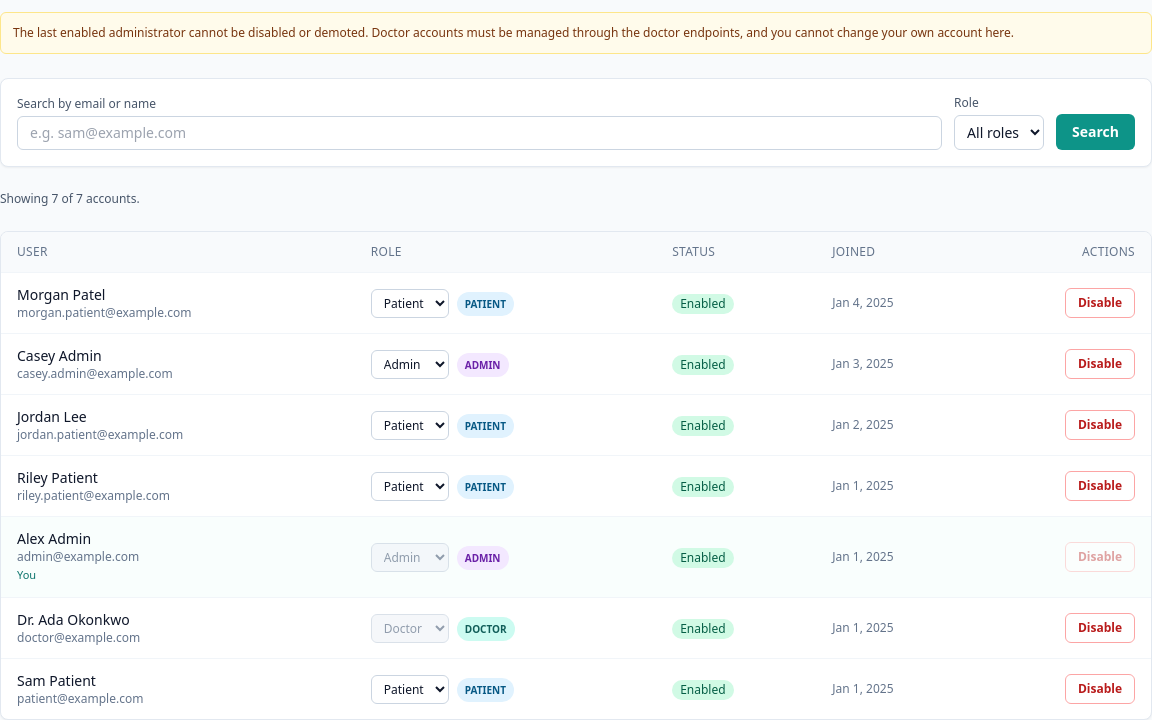
AdminUsersPage › explains when the last administrator cannot be disabled (409)
(page scrolled)
Click the button with aria-label "disable patient@example.com": (1100, 689) [1065,674,1135,704]
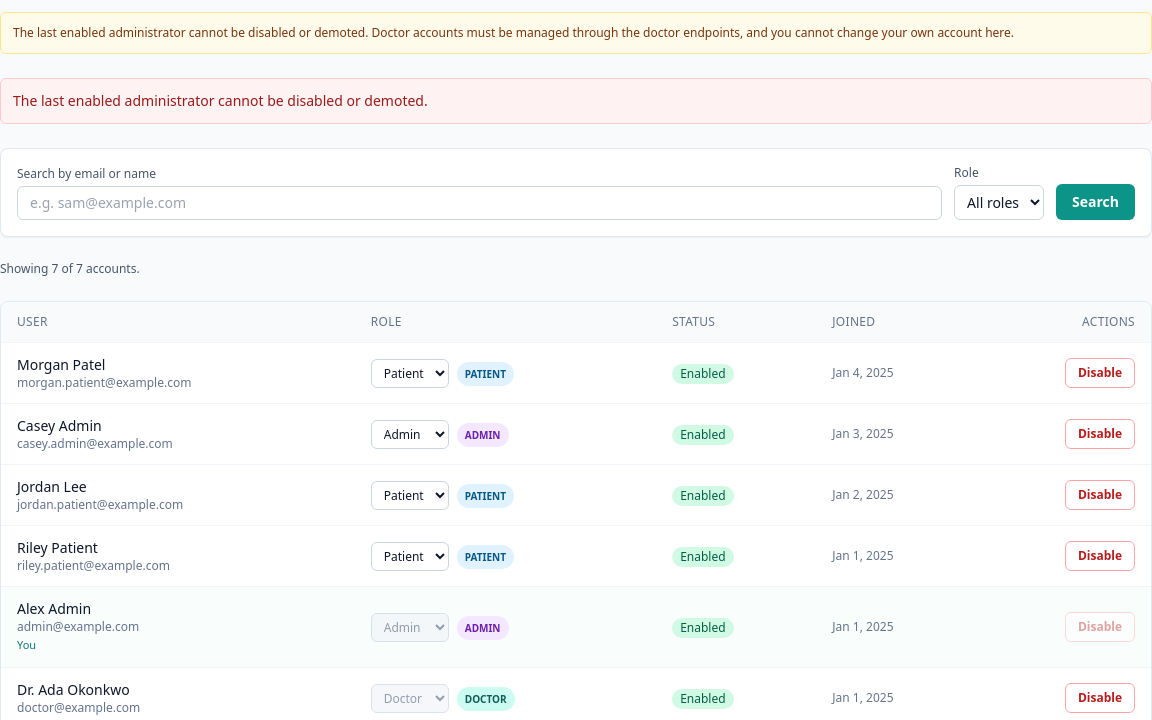
Check: the message shows "last enabled administrator cannot be disabled or demoted", box [13,91,428,110]
